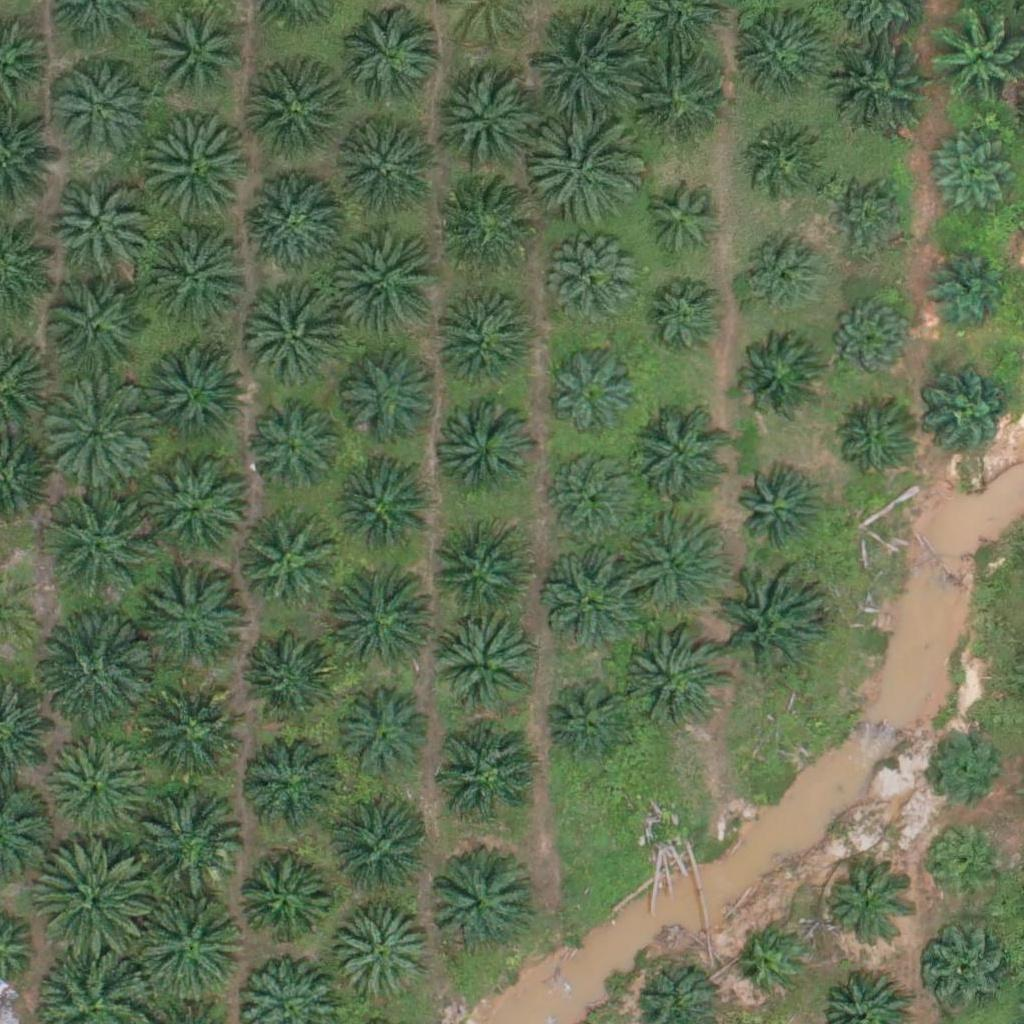Kelapa_Sawit: (38, 491, 151, 605), (138, 115, 251, 228), (330, 222, 443, 335), (711, 567, 824, 680), (131, 784, 244, 897), (38, 617, 151, 730), (336, 112, 448, 226), (529, 111, 641, 225), (529, 19, 641, 133), (134, 885, 246, 999), (36, 837, 148, 951), (39, 376, 151, 489), (140, 219, 252, 332), (439, 61, 551, 174), (614, 504, 726, 617), (326, 562, 438, 675), (51, 57, 151, 158), (48, 173, 148, 274), (146, 338, 246, 439), (147, 4, 247, 105), (241, 61, 341, 162), (247, 169, 347, 270), (246, 294, 346, 395), (339, 346, 439, 447), (346, 5, 446, 106), (432, 181, 532, 282), (436, 296, 536, 397), (437, 404, 537, 505), (632, 51, 732, 152), (730, 2, 830, 103), (426, 856, 526, 957), (333, 905, 433, 1006), (231, 850, 331, 951), (620, 628, 720, 729), (545, 545, 645, 646), (429, 614, 529, 715), (429, 526, 529, 627), (333, 458, 433, 559), (47, 738, 147, 839), (41, 280, 141, 380), (545, 343, 645, 443), (631, 407, 731, 507), (832, 29, 932, 129), (331, 807, 431, 907), (435, 724, 535, 824), (331, 683, 431, 783), (243, 728, 343, 828), (235, 508, 335, 608), (240, 624, 340, 724), (146, 457, 246, 557), (146, 574, 246, 674), (138, 687, 238, 787), (636, 274, 724, 363), (550, 450, 638, 539), (742, 128, 830, 216), (929, 134, 1017, 222), (926, 373, 1014, 461), (920, 822, 1008, 910), (831, 400, 918, 488), (826, 293, 913, 381), (826, 172, 913, 260), (633, 181, 720, 269), (736, 232, 823, 320), (732, 332, 819, 420), (249, 403, 336, 491), (552, 244, 639, 332), (924, 240, 1011, 328), (922, 923, 1009, 1011), (824, 864, 911, 952), (922, 723, 1009, 811), (737, 469, 824, 557), (546, 676, 633, 764), (736, 926, 811, 1002)
